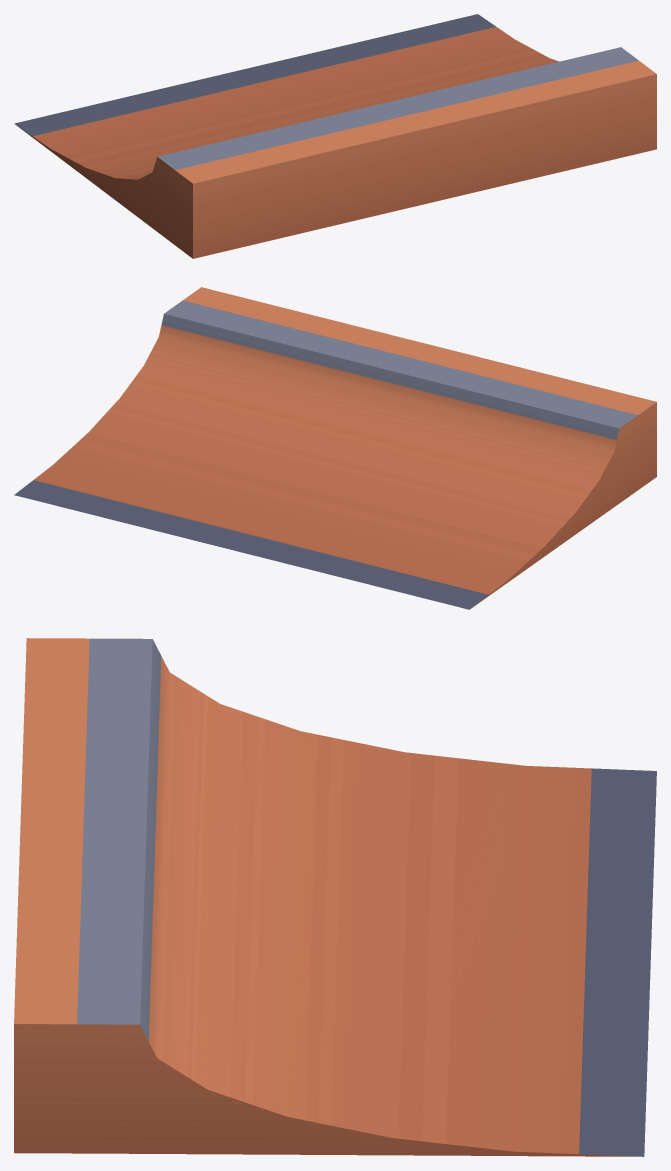
The model's file is half-pipe.001_lev2.glb.
3 renders of one model, top to bottom at view 1: azimuth 30°, elevation 25°; view 2: azimuth 150°, elevation 25°; view 3: azimuth 270°, elevation 25°, orthographic. The views are drawn at different scales.
Parts seen in each view (by area): view 1: half-pipe.001_lev2; view 2: half-pipe.001_lev2; view 3: half-pipe.001_lev2.
Part boxes in pixels (bbox=[...]): half-pipe.001_lev2: bbox=[14, 14, 656, 258]; half-pipe.001_lev2: bbox=[14, 287, 656, 609]; half-pipe.001_lev2: bbox=[14, 638, 656, 1156].
Bounding box in the file's own units: 5.17 × 0.8 × 3.61.
Materials: 1 (1 with a texture image).
